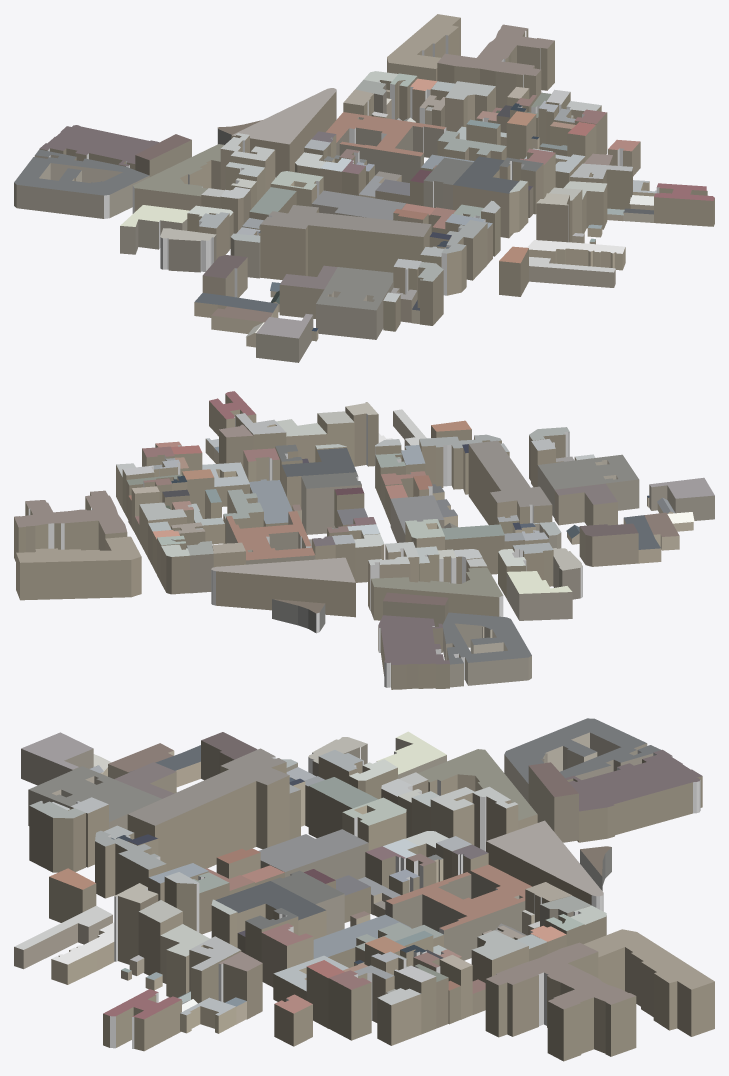
The picture shows the model from 3 angles, top to bottom: view 1: azimuth 30°, elevation 25°; view 2: azimuth 150°, elevation 25°; view 3: azimuth 270°, elevation 25°; orthographic projection. The views are drawn at different scales.
Visible parts, largest first — view 1: tuile; view 2: tuile; view 3: tuile.
Part boxes in pixels (x1=…): tuile: x1=14, y1=14, x2=714, y2=362; tuile: x1=14, y1=391, x2=714, y2=689; tuile: x1=14, y1=718, x2=714, y2=1061.
Bounding box in the file's own units: 297 × 32.46 × 276.
